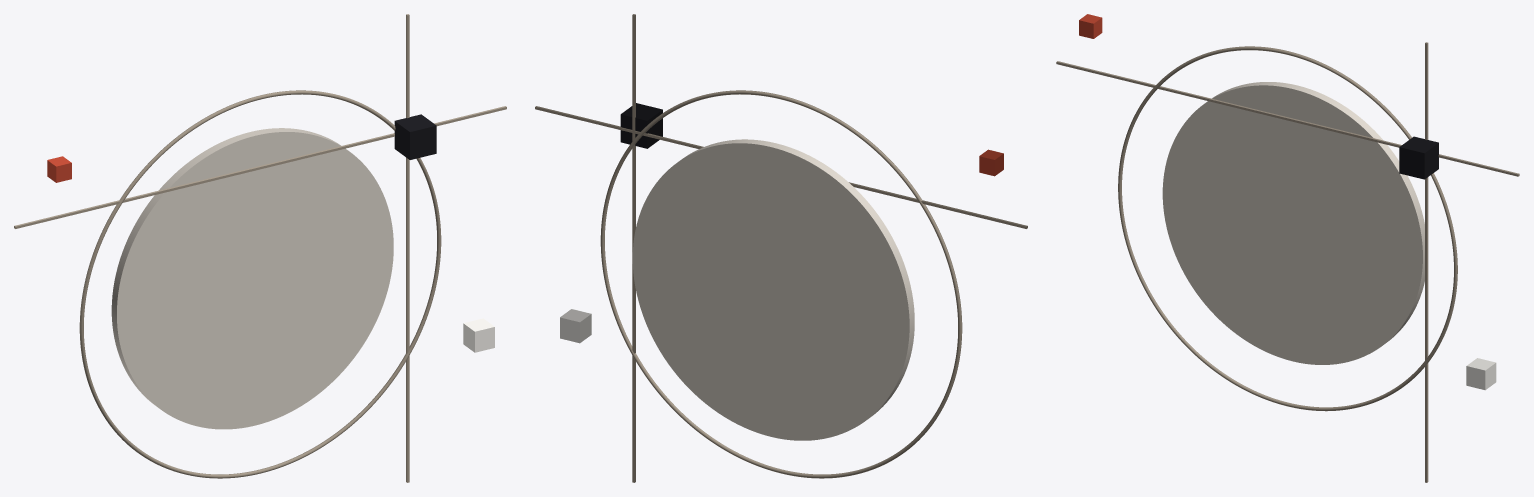
File: construction-set.glb
3 renders of one model, left to right at view 1: azimuth 30°, elevation 25°; view 2: azimuth 150°, elevation 25°; view 3: azimuth 330°, elevation 25°, orthographic. The views are drawn at different scales.
Visible parts, largest first — view 1: disc, ring, rule-h, rule-v, block-ink, block-paper, block-sanguine; view 2: disc, ring, rule-v, rule-h, block-ink, block-paper, block-sanguine; view 3: disc, ring, rule-h, rule-v, block-ink, block-paper, block-sanguine.
Part boxes in pixels (<box>): disc: <box>111,128,393,429</box>; ring: <box>79,90,441,478</box>; rule-h: <box>14,106,506,228</box>; rule-v: <box>406,14,409,482</box>; block-ink: <box>394,114,436,159</box>; block-paper: <box>463,318,494,352</box>; block-sanguine: <box>47,156,71,182</box>; disc: <box>632,139,914,440</box>; ring: <box>600,90,962,478</box>; rule-v: <box>632,14,635,482</box>; rule-h: <box>535,106,1027,228</box>; block-ink: <box>620,103,662,148</box>; block-paper: <box>560,309,591,343</box>; block-sanguine: <box>979,149,1003,176</box>; disc: <box>1162,82,1424,364</box>; ring: <box>1118,46,1457,411</box>; rule-h: <box>1056,61,1519,176</box>; rule-v: <box>1425,42,1428,482</box>; block-ink: <box>1399,136,1438,179</box>; block-paper: <box>1466,358,1496,390</box>; block-sanguine: <box>1079,14,1102,38</box>.
Size of the model in its own units: 2.2 by 2 by 0.2.
